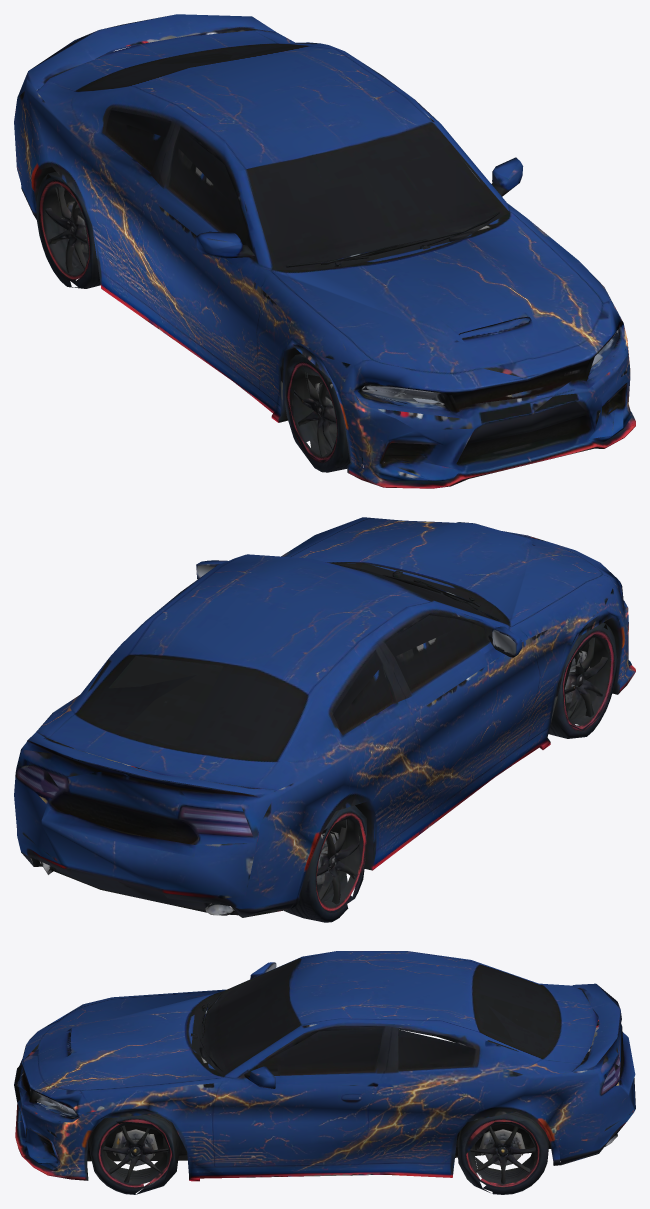
The model's file is charger2.glb.
3 renders of one model, top to bottom at view 1: azimuth 30°, elevation 25°; view 2: azimuth 150°, elevation 25°; view 3: azimuth 270°, elevation 25°, orthographic. The views are drawn at different scales.
Parts seen in each view (by area): view 1: tripo_88aab526_1eff_4cd8_95bc_e204095efb1e; view 2: tripo_88aab526_1eff_4cd8_95bc_e204095efb1e; view 3: tripo_88aab526_1eff_4cd8_95bc_e204095efb1e.
Part boxes in pixels (x1,y1,x2,y2): tripo_88aab526_1eff_4cd8_95bc_e204095efb1e: (14,14,635,488); tripo_88aab526_1eff_4cd8_95bc_e204095efb1e: (14,517,635,922); tripo_88aab526_1eff_4cd8_95bc_e204095efb1e: (14,951,635,1194).
Bounding box in the file's own units: 0.439 × 0.294 × 0.9946.
Materials: 5 (5 with a texture image).
